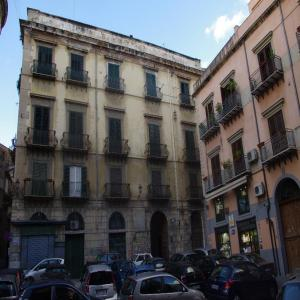Vehicle-registration-plate: (96, 288, 107, 297), (213, 285, 220, 290)
